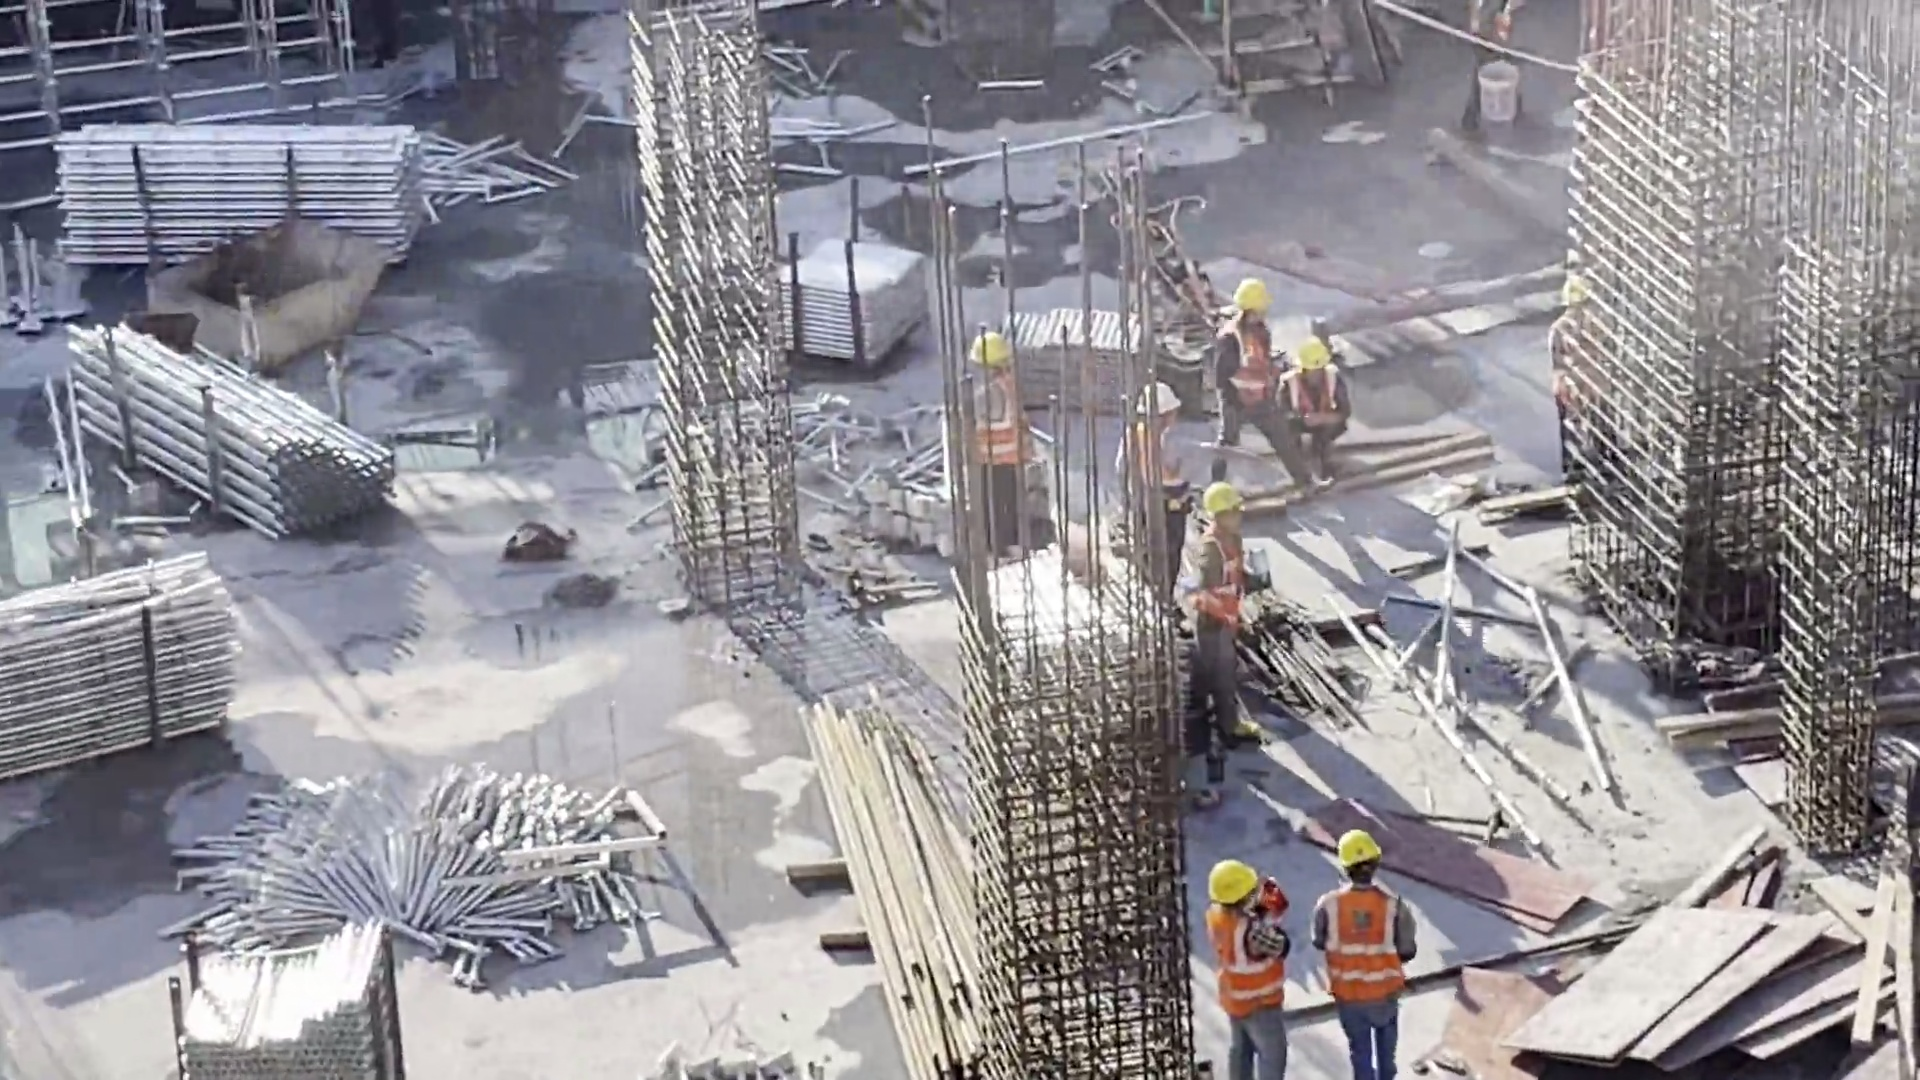board: (1535, 890, 1853, 1079)
helmet: (963, 320, 1025, 368), (1326, 826, 1401, 864), (1207, 858, 1259, 898), (1230, 279, 1278, 322), (1138, 375, 1182, 416), (1201, 478, 1251, 509), (1300, 337, 1340, 372)
hopper: (174, 223, 363, 367)
person: (1175, 478, 1286, 754), (1300, 826, 1410, 1078), (1208, 278, 1319, 502), (1203, 845, 1307, 1079), (964, 331, 1052, 575), (1115, 376, 1201, 578), (1291, 338, 1360, 463)
scaffold: (196, 759, 654, 957), (59, 324, 397, 545), (42, 121, 418, 271), (139, 907, 445, 1080), (1, 563, 271, 751), (766, 224, 915, 364), (1009, 304, 1152, 418)
vest: (1319, 887, 1392, 1013), (967, 374, 1059, 469), (1212, 894, 1278, 1016), (1112, 419, 1191, 485), (1217, 316, 1274, 408), (1196, 527, 1245, 627), (1284, 375, 1348, 435)
